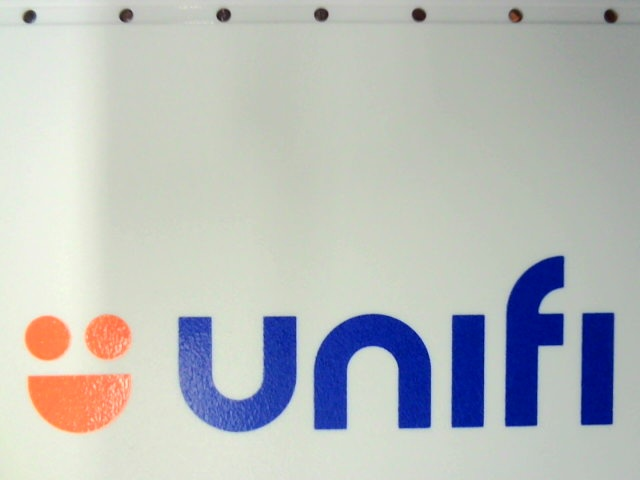BN_unifi: (13, 251, 616, 433)
